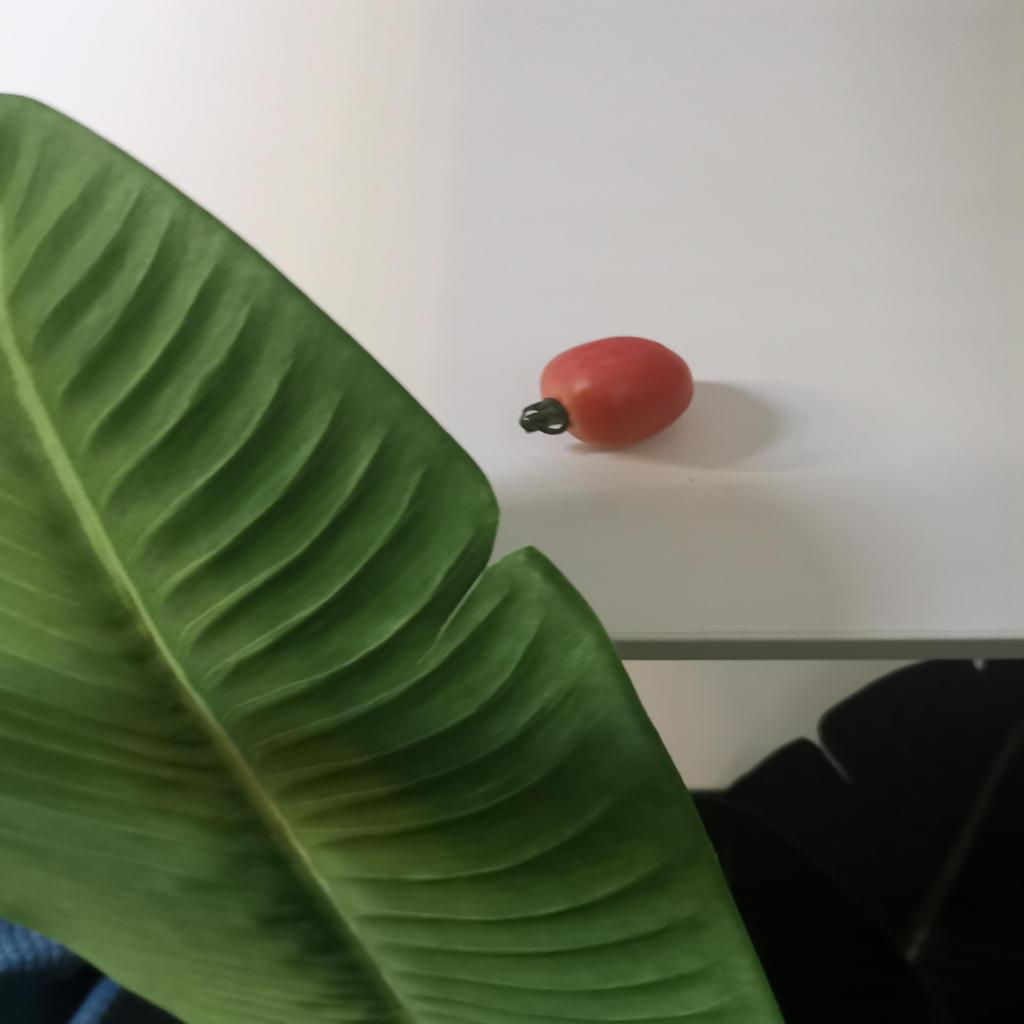tomato: (518, 341, 706, 451)
